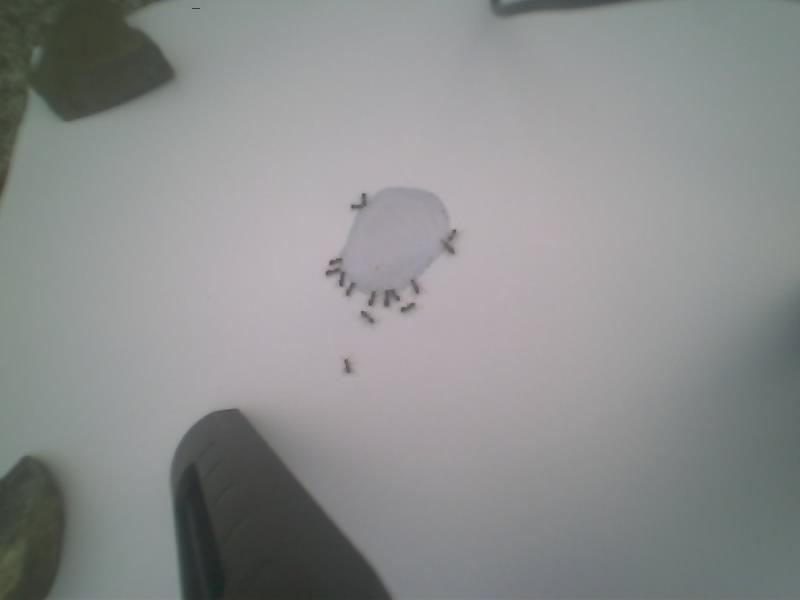Ant: (361, 310, 376, 325), (443, 240, 456, 256), (345, 281, 358, 297), (400, 302, 416, 314), (382, 289, 392, 308), (326, 267, 342, 278), (390, 288, 402, 302), (411, 279, 421, 295), (328, 257, 344, 267), (344, 358, 353, 375), (338, 270, 346, 289), (368, 290, 377, 306), (447, 229, 457, 242), (360, 193, 369, 207), (352, 202, 367, 210)
